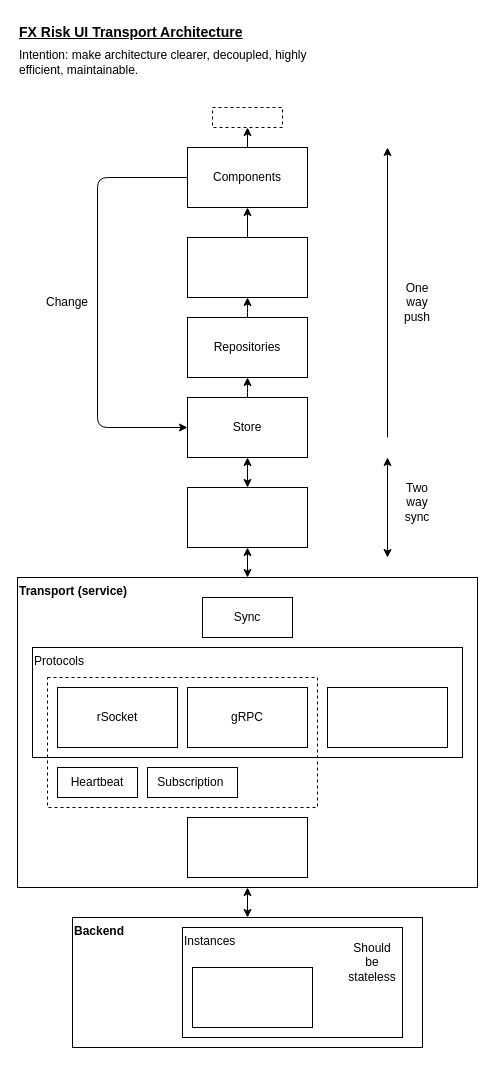
Some shapes in this 495 by 1065 pixel diagram are drawn without their labels. Here are the shapes that lost their labels. From the top down, the centre of each, then its label:
the point at 247,117: Render
the point at 247,267: Services
the point at 247,517: Factories
the point at 387,717: HTTPS
the point at 247,847: Providers
the point at 252,997: Affinity ID
